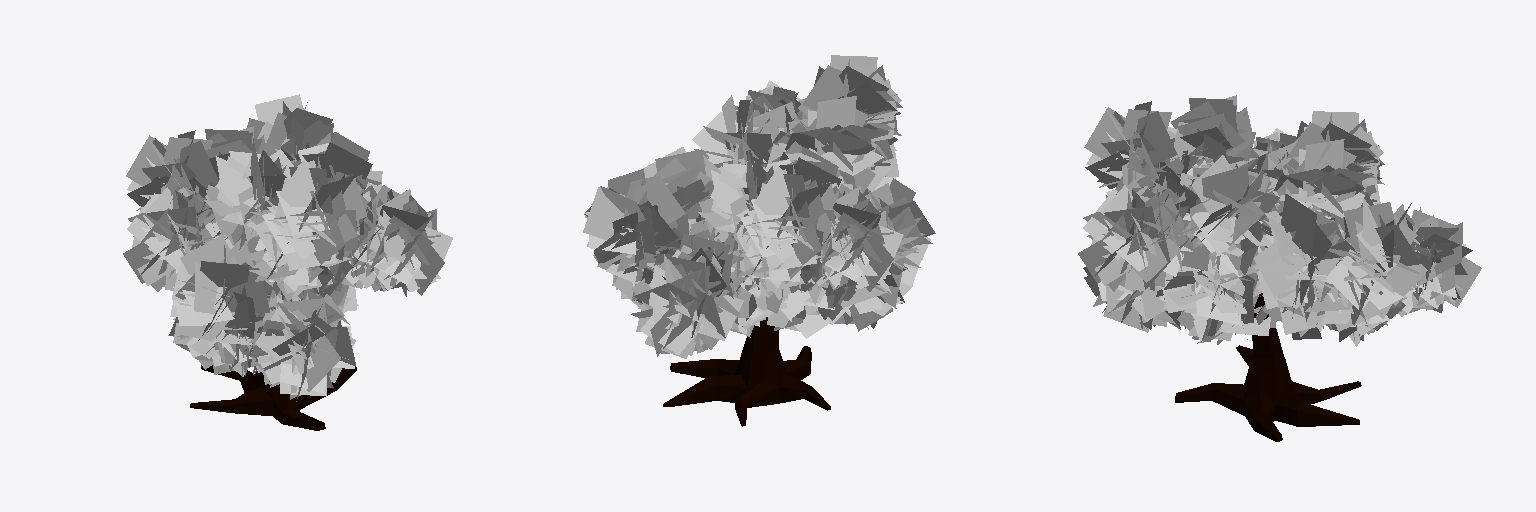
Rendered from Tree_Green_02.obj.
3 renders of one model, left to right at view 1: azimuth 30°, elevation 25°; view 2: azimuth 150°, elevation 25°; view 3: azimuth 270°, elevation 25°, orthographic.
Visible parts, largest first — view 1: TreeGreen_02_Circle; view 2: TreeGreen_02_Circle; view 3: TreeGreen_02_Circle.
Boxes of the visible parts, x1,y1,x2,y2 form: TreeGreen_02_Circle: [123, 94, 452, 430]; TreeGreen_02_Circle: [583, 55, 935, 426]; TreeGreen_02_Circle: [1078, 95, 1481, 441].
Bounding box in the file's own units: 13.44 × 14.6 × 18.14.